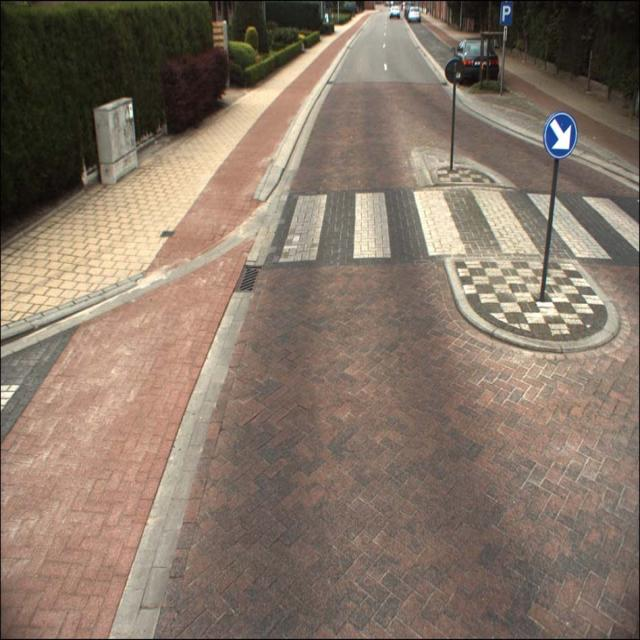park: (500, 3, 512, 25)
